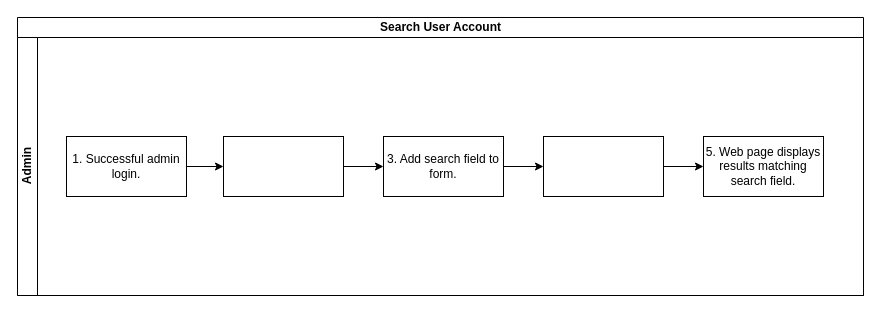
The diagram is 881 pixels wide and 313 high, and some of its shapes have lost their labels. The box of each missing label's shape, as (x1, y1, x2, y2) in pixels:
2. Navigate to "Search & Edit Users" on homepage.: (222, 136, 344, 196)
4. Admin presses "Search" button: (542, 136, 664, 196)
